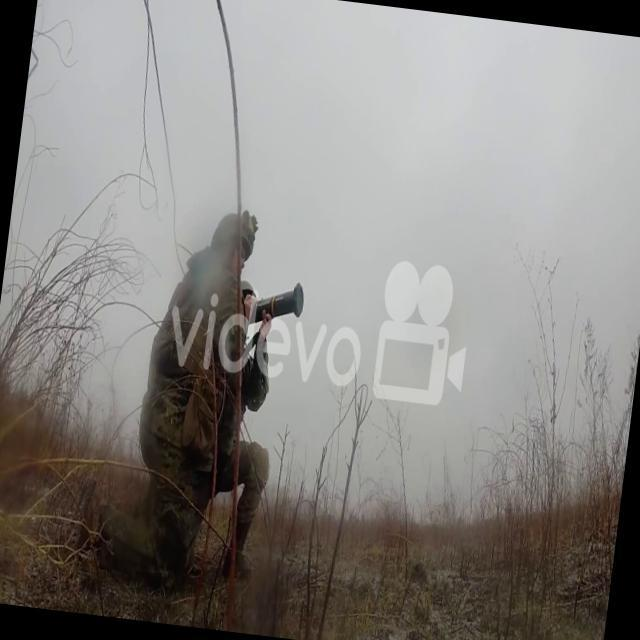rocket: (248, 274, 306, 336)
